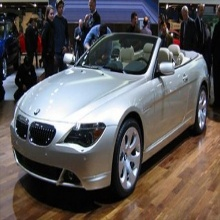no damage: (10, 32, 209, 199)
